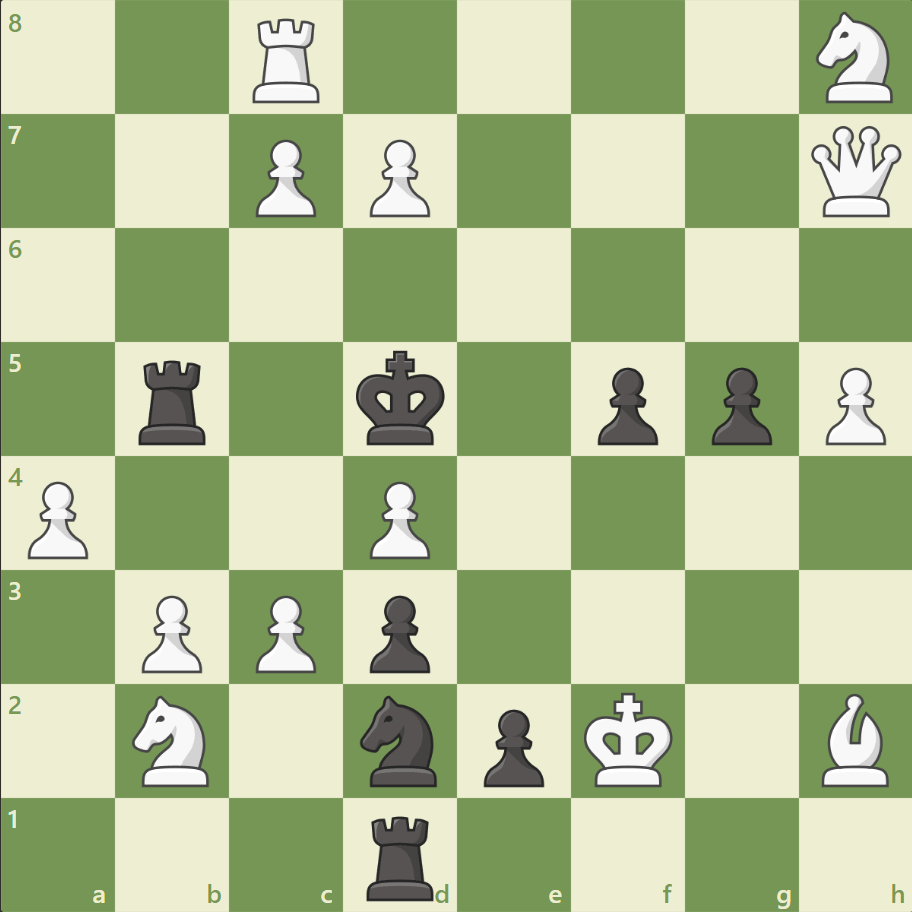B: (812, 687, 896, 790)
K: (579, 685, 679, 793)
N: (124, 688, 222, 791), (806, 7, 903, 110)
P: (247, 132, 322, 223), (20, 473, 95, 564), (133, 586, 208, 677), (247, 586, 322, 677), (361, 132, 435, 223), (815, 359, 889, 450), (361, 473, 435, 564)
Q: (805, 122, 904, 222)
R: (246, 12, 329, 109)
k: (351, 344, 451, 452)
n: (351, 688, 449, 791)
p: (701, 359, 776, 450), (474, 700, 549, 791), (588, 359, 662, 450), (361, 586, 435, 677)
r: (360, 806, 442, 904), (133, 352, 215, 449)
